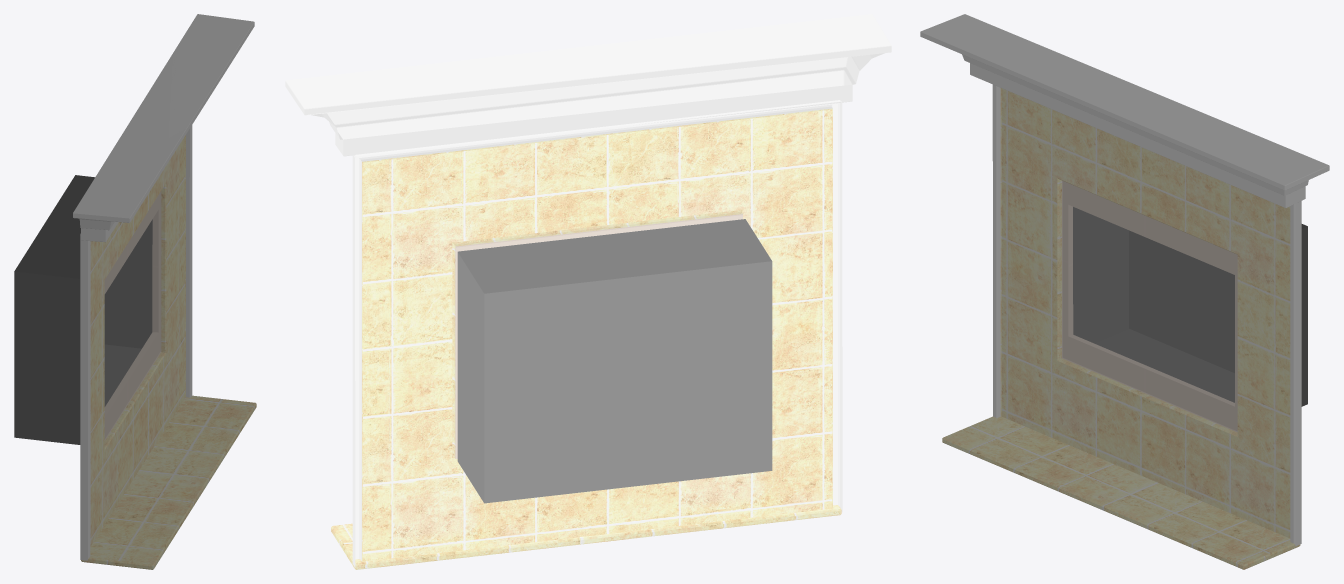
The picture shows the model from 3 angles, left to right: view 1: azimuth 30°, elevation 25°; view 2: azimuth 150°, elevation 25°; view 3: azimuth 270°, elevation 25°; orthographic projection. The views are drawn at different scales.
Parts seen in each view (by area): view 1: FP222:Cylinder.028_75241435; view 2: FP222:Cylinder.028_75241435; view 3: FP222:Cylinder.028_75241435.
Part boxes in pixels (bbox=[...]): FP222:Cylinder.028_75241435: bbox=[14, 14, 256, 569]; FP222:Cylinder.028_75241435: bbox=[285, 14, 891, 569]; FP222:Cylinder.028_75241435: bbox=[920, 14, 1329, 569].
Size of the model in its own units: 1.62 by 1.73 by 1.62.
